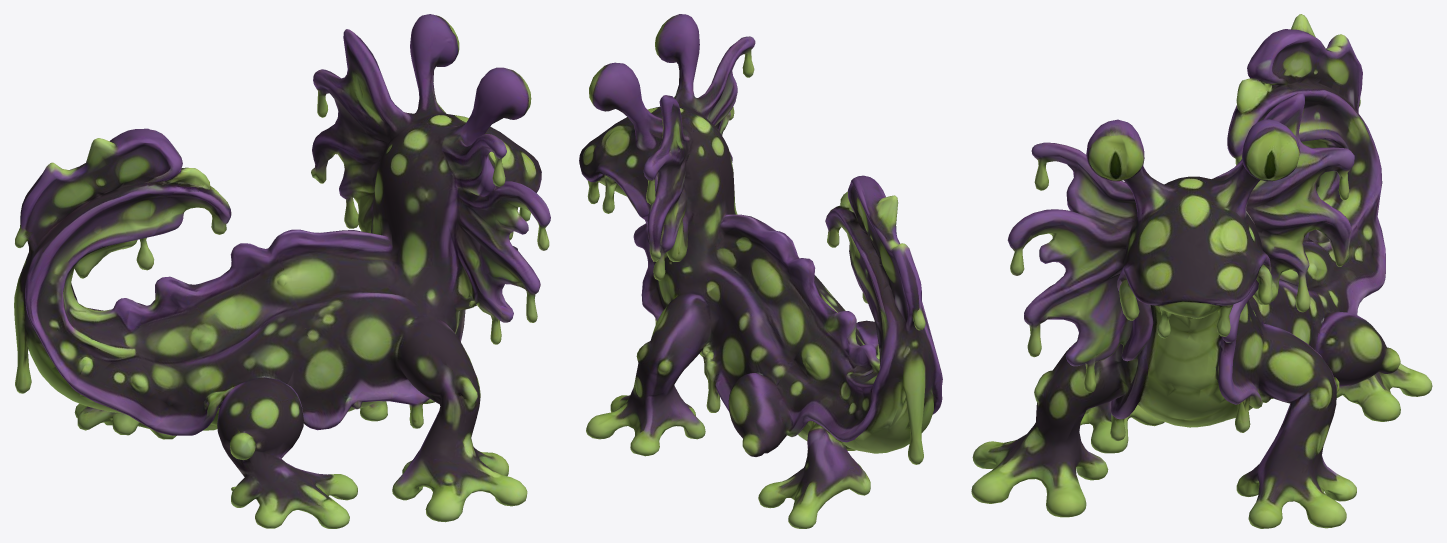
Rendered from n4_neonmire.b1ab2636.glb.
The picture shows the model from 3 angles, left to right: view 1: azimuth 30°, elevation 25°; view 2: azimuth 150°, elevation 25°; view 3: azimuth 270°, elevation 25°; orthographic projection. The views are drawn at different scales.
Parts seen in each view (by area): view 1: tripo_node_1b5574f3-5905-4dca-b24b-967f518e2c0e; view 2: tripo_node_1b5574f3-5905-4dca-b24b-967f518e2c0e; view 3: tripo_node_1b5574f3-5905-4dca-b24b-967f518e2c0e.
Part boxes in pixels (<box>): tripo_node_1b5574f3-5905-4dca-b24b-967f518e2c0e: <box>14,14,550,528</box>; tripo_node_1b5574f3-5905-4dca-b24b-967f518e2c0e: <box>579,14,942,528</box>; tripo_node_1b5574f3-5905-4dca-b24b-967f518e2c0e: <box>971,14,1432,528</box>.
Bounding box in the file's own units: 0.9993 × 0.8294 × 0.8352.
1 material, 1 textured.
